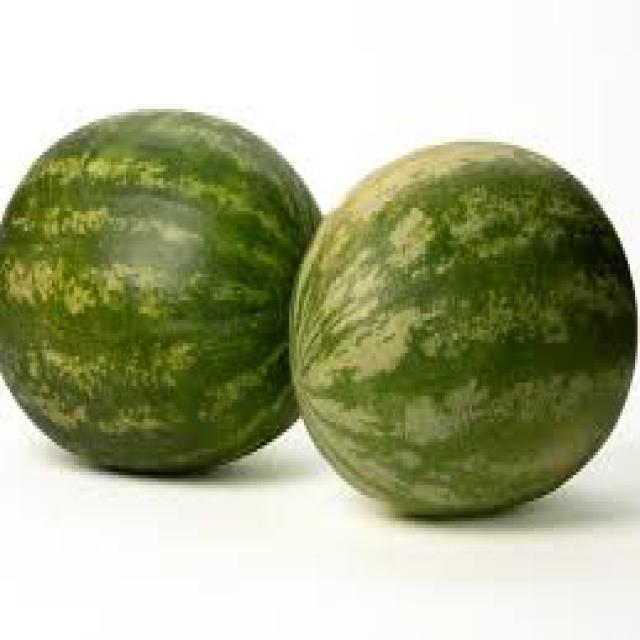watermelon: (292, 142, 635, 514), (0, 112, 319, 472)
